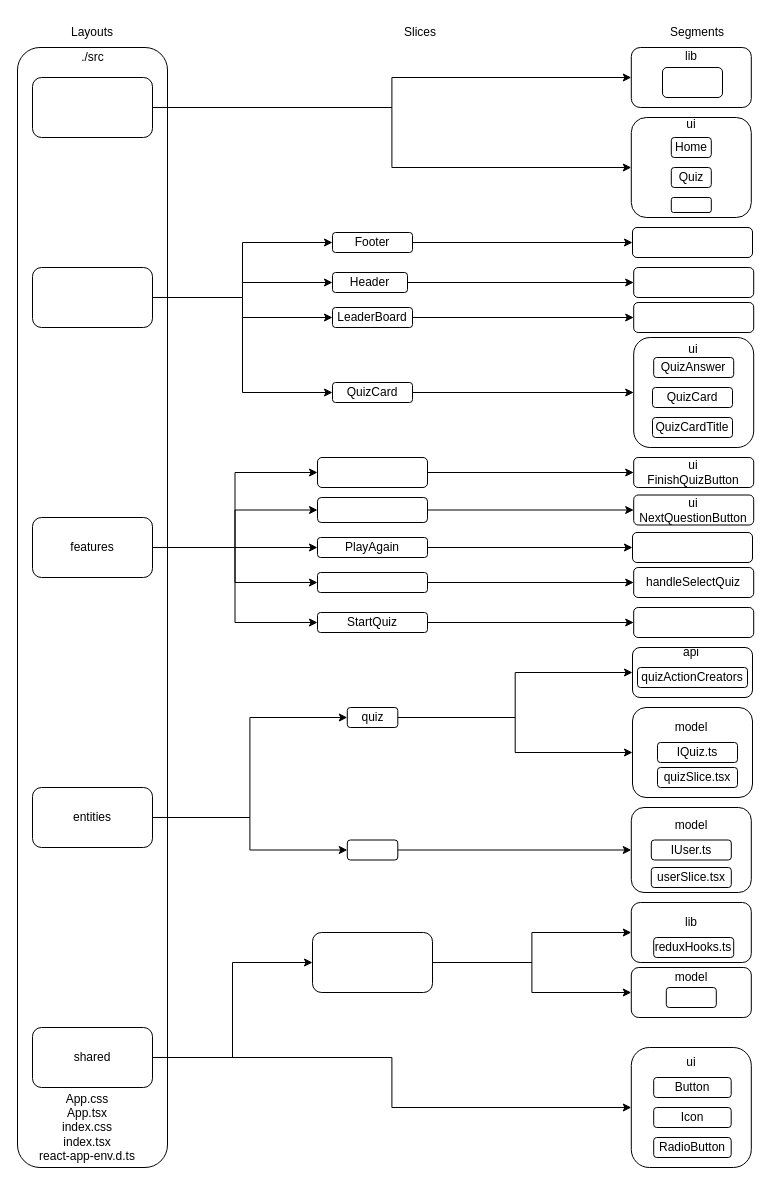
Image size: 772x1185. Some labels were removed from this diagram. The shapes that lost their labels are listed below. From the top down, each one's centre as x and y in pixels, then its label:
At point 692,82: "routes.tsx".
At point 92,107: "pages".
At point 690,204: "Score".
At point 692,242: "ui Footer".
At point 92,297: "widgets".
At point 693,282: "ui Header".
At point 693,317: "ui LeaderBoard".
At point 372,472: "FinishQuiz".
At point 372,509: "NextQuestion".
At point 692,547: "ui PlayAgainButton".
At point 372,582: "SelectQuizAnswer".
At point 693,622: "ui StartQuizButton".
At point 372,849: "user".
At point 372,962: "store".
At point 690,997: "store.ts".
